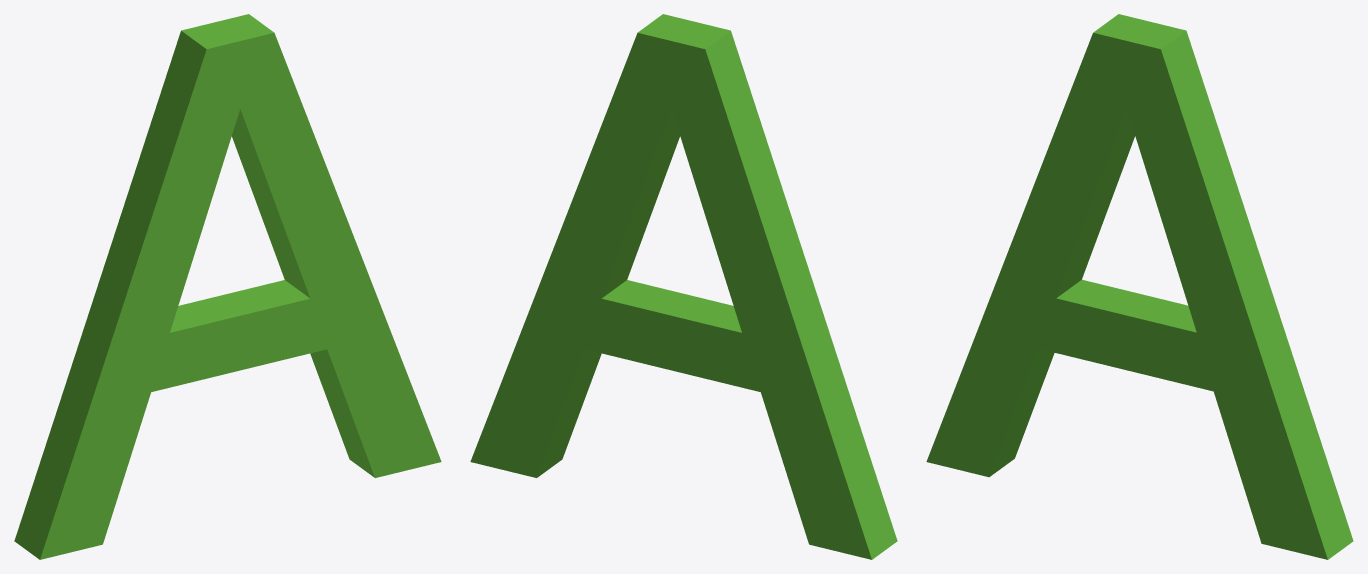
The model's file is letras.obj.
The picture shows the model from 3 angles, left to right: view 1: azimuth 30°, elevation 25°; view 2: azimuth 150°, elevation 25°; view 3: azimuth 330°, elevation 25°; orthographic projection.
Parts seen in each view (by area): view 1: A; view 2: A; view 3: A.
Boxes of the visible parts, x1,y1,x2,y2 form: A: (14,14,441,559); A: (470,14,897,559); A: (926,14,1353,559).
Bounding box in the file's own units: 0.906 × 1.01 × 0.1.
